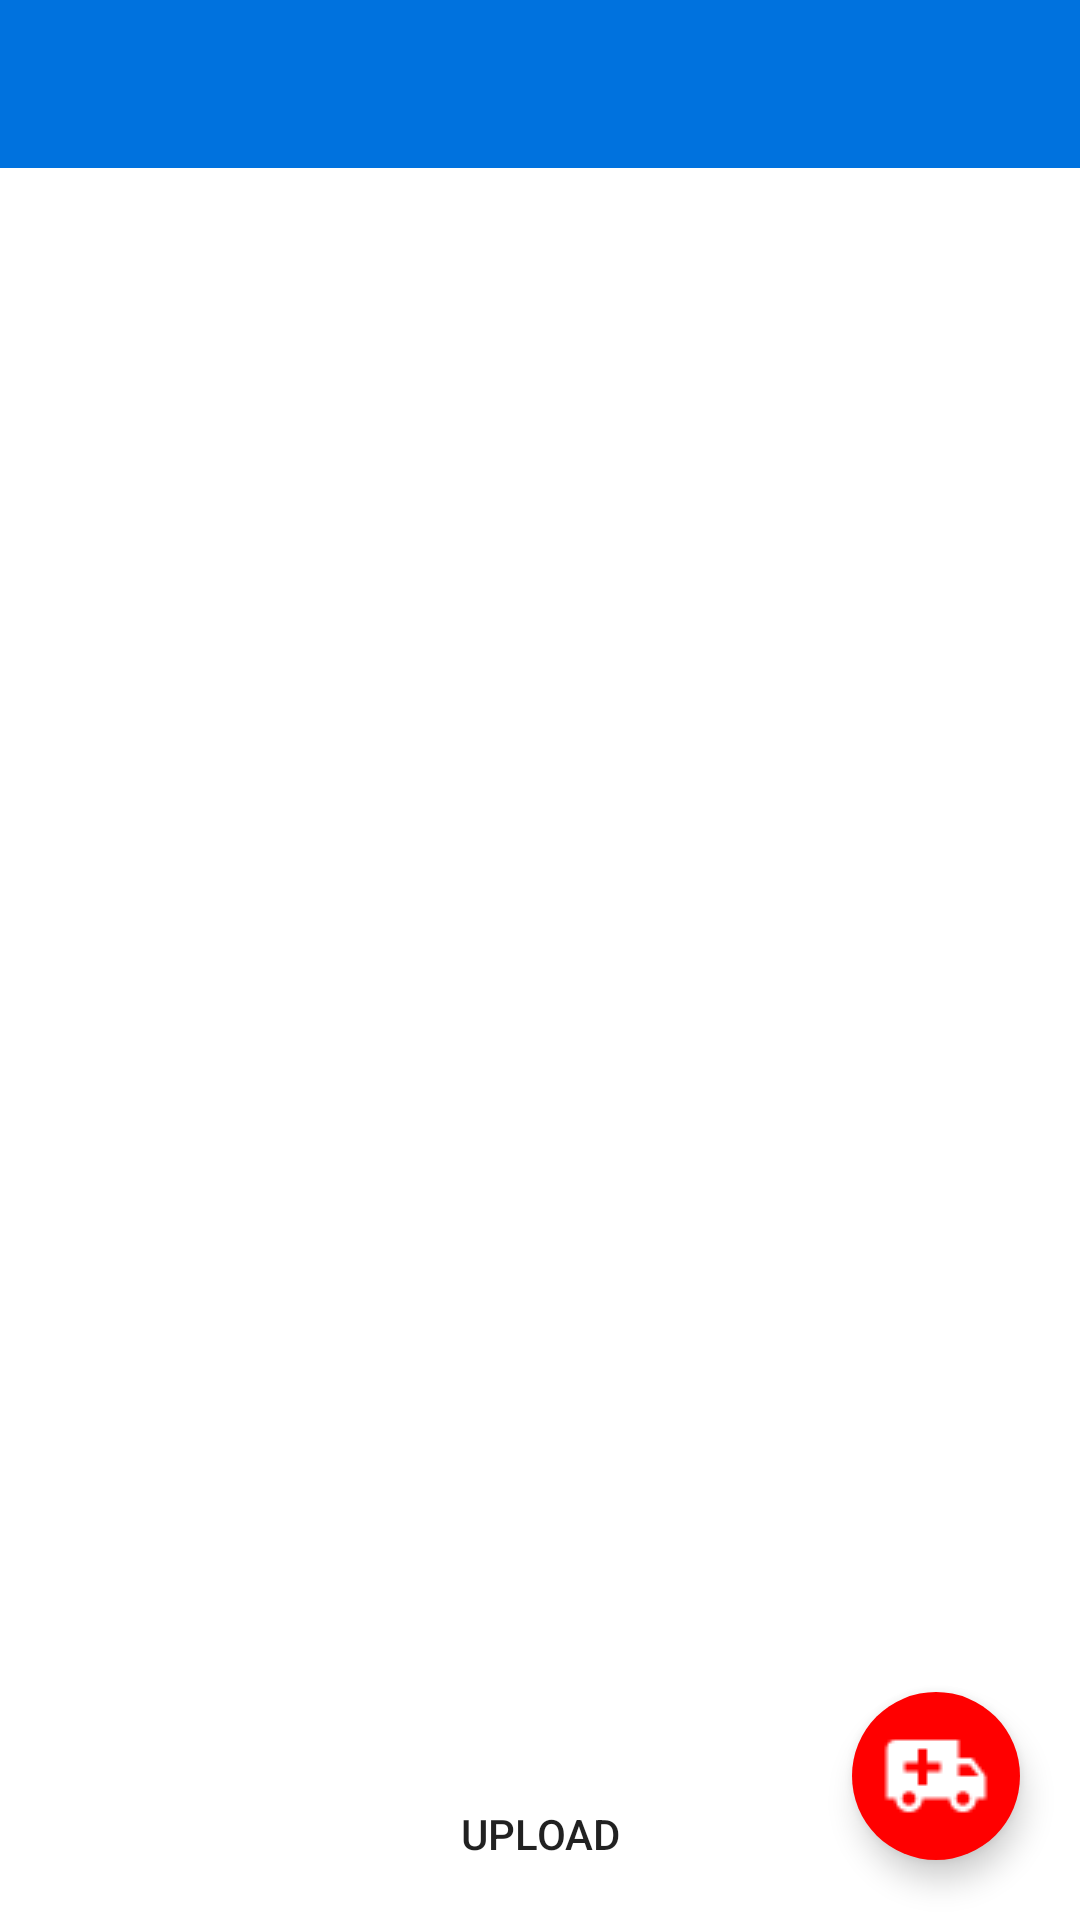

Screen size 1080px x 1920px. Icon name, then its box in pixels as (x1, y1, x2, y2):
SOS: (852, 1692, 1020, 1860)
